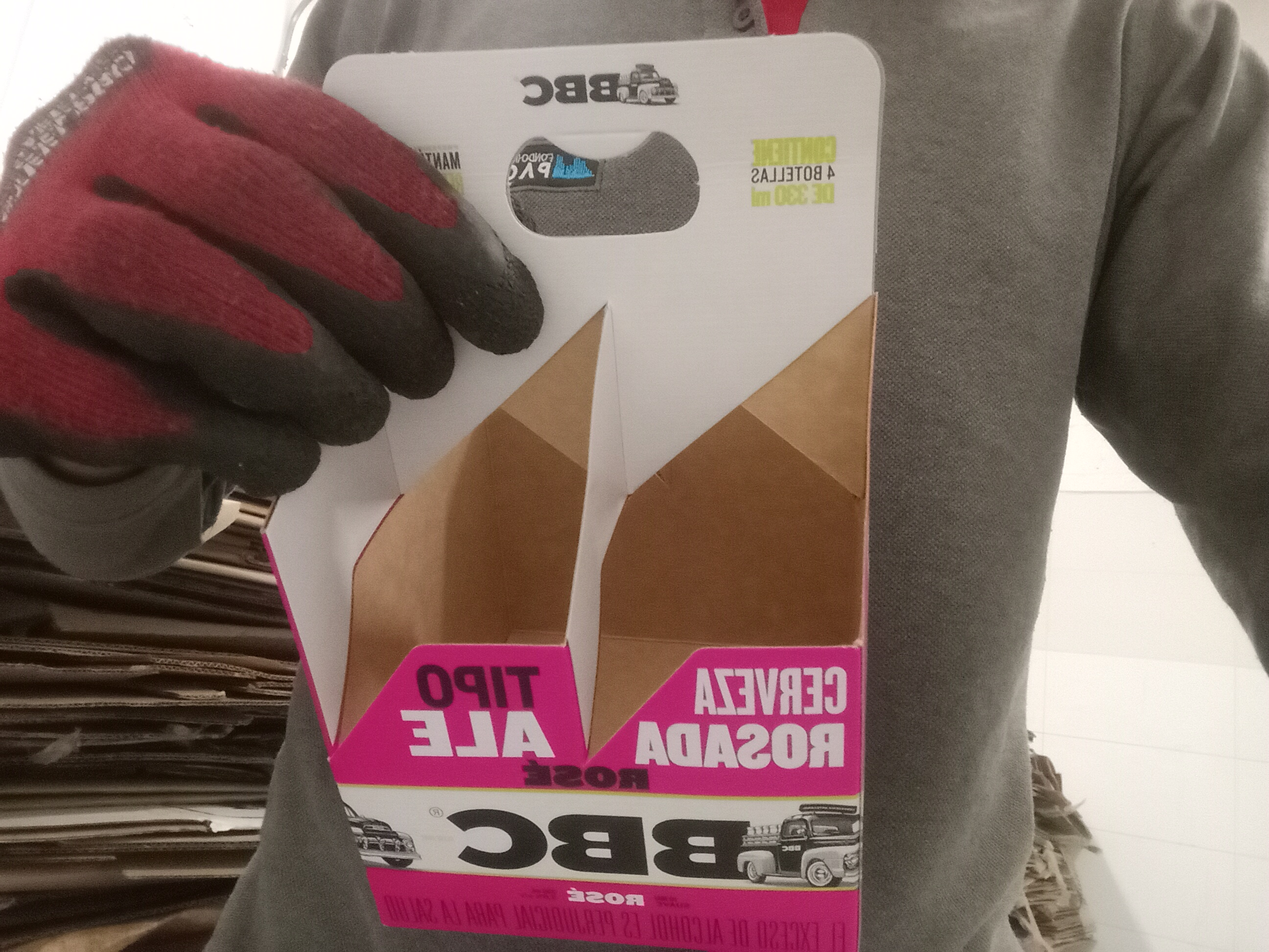Carton: (261, 36, 875, 952)
